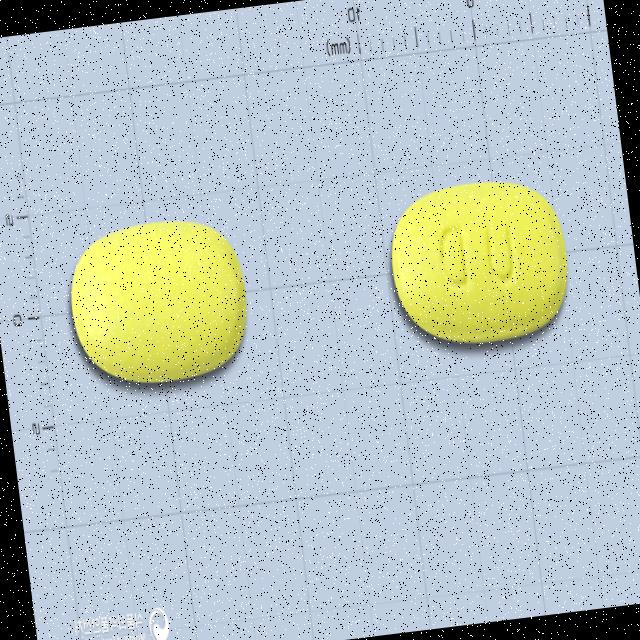Claxin - 500mg: (380, 168, 578, 358)
